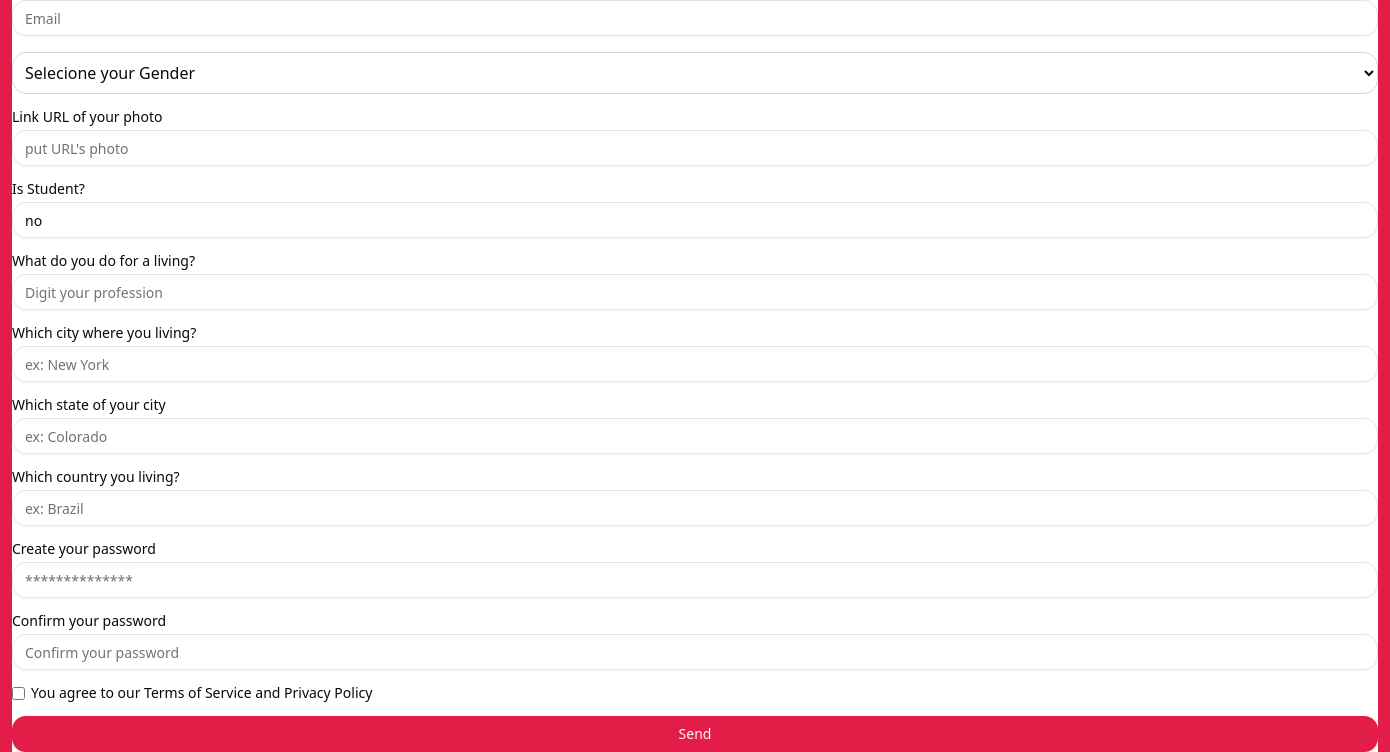
Form Component › should show error message when fields was empty
(page scrolled)
Click the button "Send". click: (695, 734)
box: [12, 716, 1378, 751]
(page scrolled)
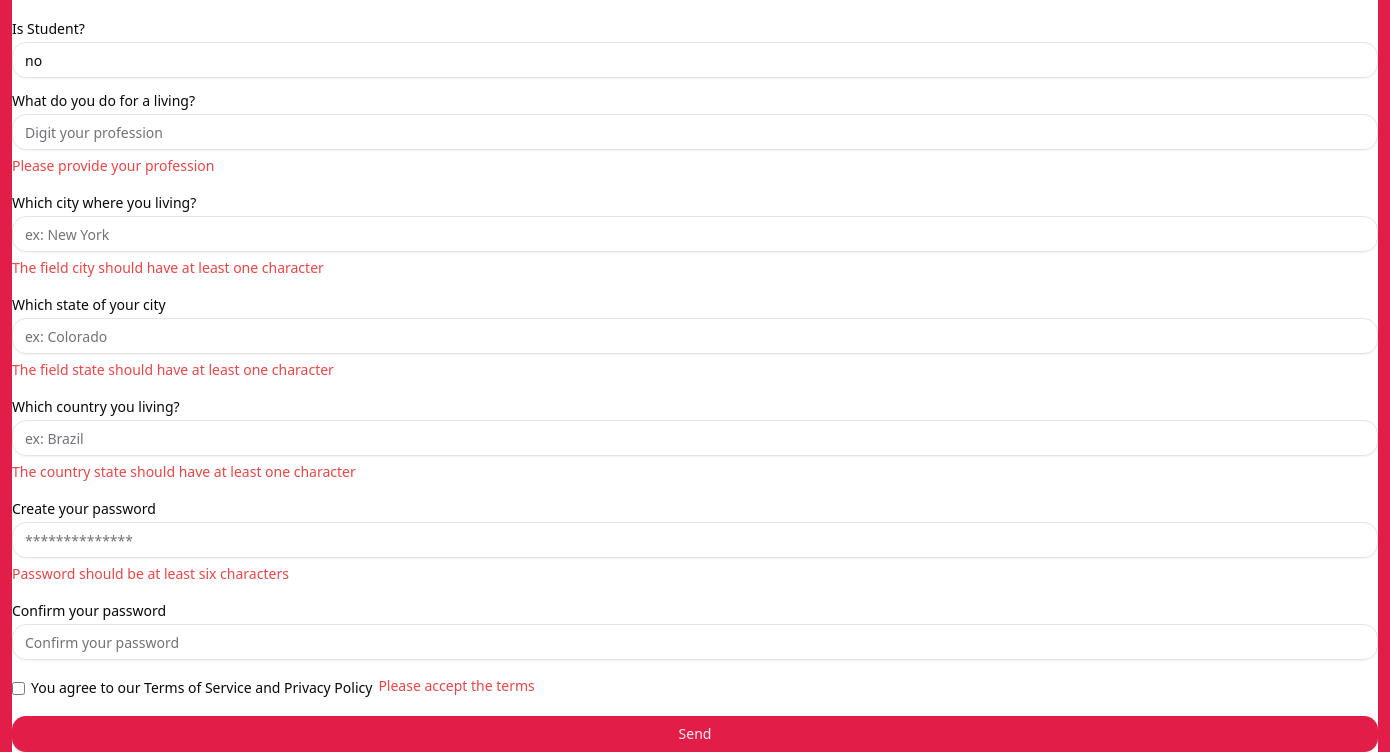
Now the text "Please provide your profession" is shown, box [12, 156, 214, 175]
Now the text "The field city should have at least one character" is shown, box [12, 258, 324, 277]
Now the text "The field state should have at least one character" is shown, box [12, 360, 334, 379]
